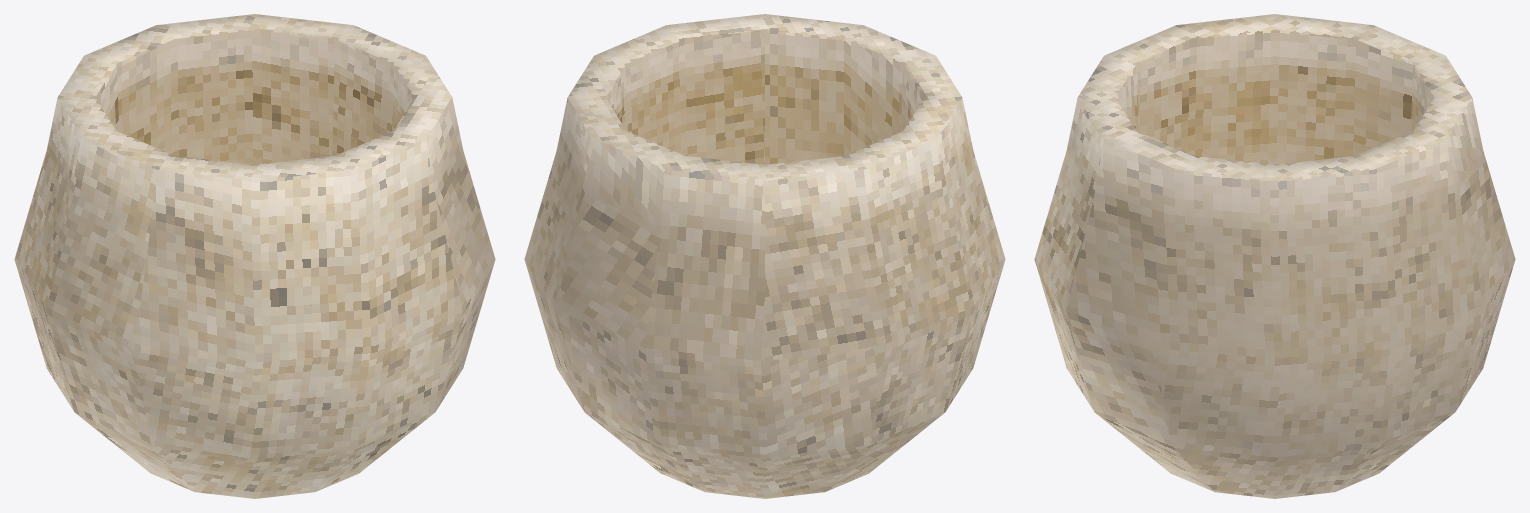
File: Vase_1.gltf
3 renders of one model, left to right at view 1: azimuth 30°, elevation 25°; view 2: azimuth 150°, elevation 25°; view 3: azimuth 270°, elevation 25°, orthographic.
Parts seen in each view (by area): view 1: Vase_1; view 2: Vase_1; view 3: Vase_1.
Boxes of the visible parts, <box> form: Vase_1: <box>14,14,495,498</box>; Vase_1: <box>524,14,1005,498</box>; Vase_1: <box>1034,14,1515,498</box>.
Size of the model in its own units: 1.53 by 1.23 by 1.53.
Materials: 1 (1 with a texture image).
